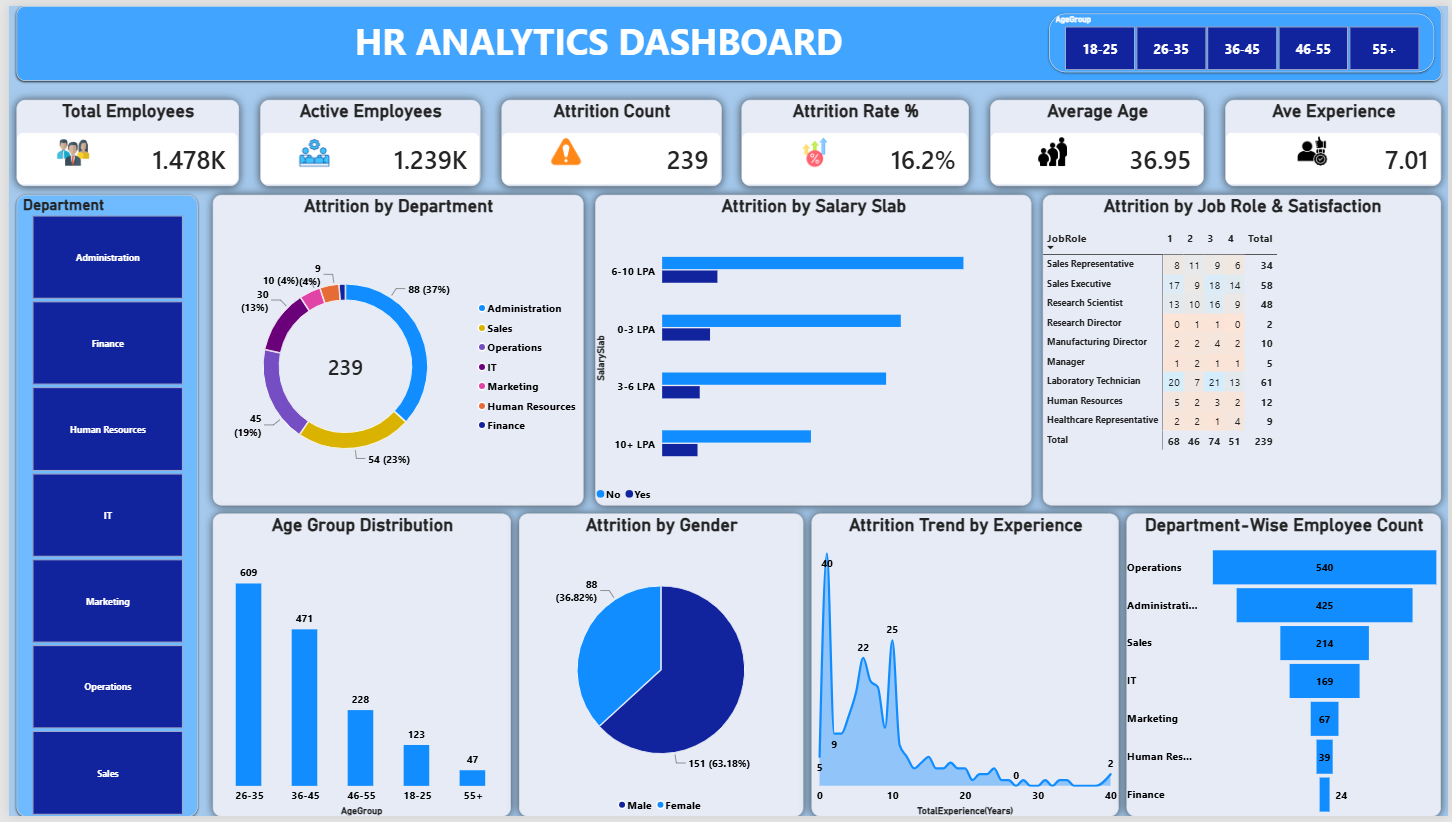

The page's visual inventory and layout, read from the dashboard file:
{"tool":"powerbi","page":{"name":"Page 1","canvas":[1920,1080],"ordinal":0},"visuals":[{"type":"textbox","box":[10,0,1900,100],"z":0},{"type":"cardVisual","title":"Total Employees","fields":{"Data":["CountNonNull(HR_Analytics-4.EmpID)"]},"box":[10,125,296.7,115],"z":1000},{"type":"cardVisual","title":"Active Employees","fields":{"Data":["CountNonNull(HR_Analytics-4.EmployeeCount)"]},"box":[334.7,125,293.3,115],"z":2000},{"type":"cardVisual","title":"Attrition Count","fields":{"Data":["Sum(HR_Analytics-4.AttritionCount)"]},"box":[656,125,293.3,115],"z":3000},{"type":"cardVisual","title":"Attrition Rate %","fields":{"Data":["HR_Analytics-4.Attrition Rate %"]},"box":[977.3,125,303.3,115],"z":4000},{"type":"cardVisual","title":"Average Age","fields":{"Data":["Avg(HR_Analytics-4.Age)"]},"box":[1308.7,125,285,115],"z":5000},{"type":"cardVisual","title":"Ave Experience","fields":{"Data":["Avg(HR_Analytics-4.YearsatCompany)"]},"box":[1621.7,125,288.3,115],"z":6000},{"type":"image","box":[33.1,172.7,104.7,43.6],"z":7000},{"type":"image","box":[1327.3,174.4,129.1,38.4],"z":8000},{"type":"image","box":[340.1,174.4,134.3,41.9],"z":9000},{"type":"image","box":[1655.2,172.7,165.7,40.1],"z":10000},{"type":"image","box":[668,172.7,148.3,41.9],"z":11000},{"type":"image","box":[997.7,174.4,151.7,40.1],"z":12000},{"type":"donutChart","title":"Attrition by Department","fields":{"Category":["HR_Analytics-4.Department"],"Y":["Sum(HR_Analytics-4.AttritionCount)"]},"box":[271.2,251,494.2,414.7],"z":13000},{"type":"clusteredBarChart","title":"Attrition by Salary Slab","fields":{"Category":["HR_Analytics-4.SalarySlab"],"Series":["HR_Analytics-4.Attrition"],"Y":["CountNonNull(HR_Analytics-4.EmpID)"]},"box":[781,251,581.5,414.7],"z":14000},{"type":"pivotTable","title":"Attrition by Job Role & Satisfaction","fields":{"Columns":["HR_Analytics-4.JobSatisfaction"],"Rows":["HR_Analytics-4.JobRole"],"Values":["Sum(HR_Analytics-4.AttritionCount)"]},"box":[1378.1,251,531.6,414.7],"z":15000},{"type":"columnChart","title":"Age Group Distribution","fields":{"Category":["HR_Analytics-4.AgeGroup"],"Y":["Sum(HR_Analytics-4.EmployeeCount)"]},"box":[271.2,676.6,397.5,403.8],"z":16000},{"type":"pieChart","title":"Attrition by Gender","fields":{"Category":["HR_Analytics-4.Gender"],"Y":["Sum(HR_Analytics-4.AttritionCount)"]},"box":[679.7,676.6,378.8,403.8],"z":17000},{"type":"areaChart","title":"Attrition Trend by Experience","fields":{"Category":["HR_Analytics-4.TotalExperience(Years)"],"Y":["Sum(HR_Analytics-4.AttritionCount)"]},"box":[1069.4,676.6,410,403.8],"z":18000},{"type":"funnel","title":"Department-Wise Employee Count","fields":{"Category":["HR_Analytics-4.Department"],"Y":["CountNonNull(HR_Analytics-4.EmpID)"]},"box":[1490.3,676.6,419.3,403.8],"z":19000},{"type":"slicer","fields":{"Values":["HR_Analytics-4.Department"]},"box":[10,251.7,241.6,829.3],"z":20000},{"type":"slicer","fields":{"Values":["HR_Analytics-4.AgeGroup"]},"box":[1386.7,10,513.3,78.3],"z":21000}]}

Visuals, with their boxes in screenshot pixels (x1, y1, x2, y2), scaled from the page's 1920x1080 canvas onto the 1452x822 screenshot:
textbox: (left=8, top=0, right=1444, bottom=76)
"Total Employees" cardVisual: (left=8, top=95, right=232, bottom=183)
"Active Employees" cardVisual: (left=253, top=95, right=475, bottom=183)
"Attrition Count" cardVisual: (left=496, top=95, right=718, bottom=183)
"Attrition Rate %" cardVisual: (left=739, top=95, right=968, bottom=183)
"Average Age" cardVisual: (left=990, top=95, right=1205, bottom=183)
"Ave Experience" cardVisual: (left=1226, top=95, right=1444, bottom=183)
image: (left=25, top=131, right=104, bottom=165)
image: (left=1004, top=133, right=1101, bottom=162)
image: (left=257, top=133, right=359, bottom=165)
image: (left=1252, top=131, right=1377, bottom=162)
image: (left=505, top=131, right=617, bottom=163)
image: (left=755, top=133, right=869, bottom=163)
"Attrition by Department" donutChart: (left=205, top=191, right=579, bottom=507)
"Attrition by Salary Slab" clusteredBarChart: (left=591, top=191, right=1030, bottom=507)
"Attrition by Job Role & Satisfaction" pivotTable: (left=1042, top=191, right=1444, bottom=507)
"Age Group Distribution" columnChart: (left=205, top=515, right=506, bottom=821)
"Attrition by Gender" pieChart: (left=514, top=515, right=800, bottom=821)
"Attrition Trend by Experience" areaChart: (left=809, top=515, right=1119, bottom=821)
"Department-Wise Employee Count" funnel: (left=1127, top=515, right=1444, bottom=821)
slicer - HR_Analytics-4.Department: (left=8, top=192, right=190, bottom=821)
slicer - HR_Analytics-4.AgeGroup: (left=1049, top=8, right=1437, bottom=67)
